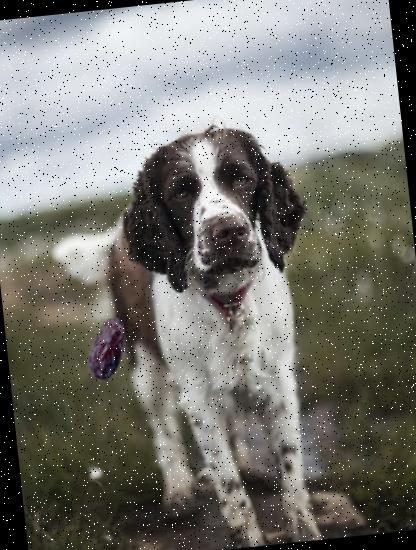Dates: (72, 314, 142, 384)
